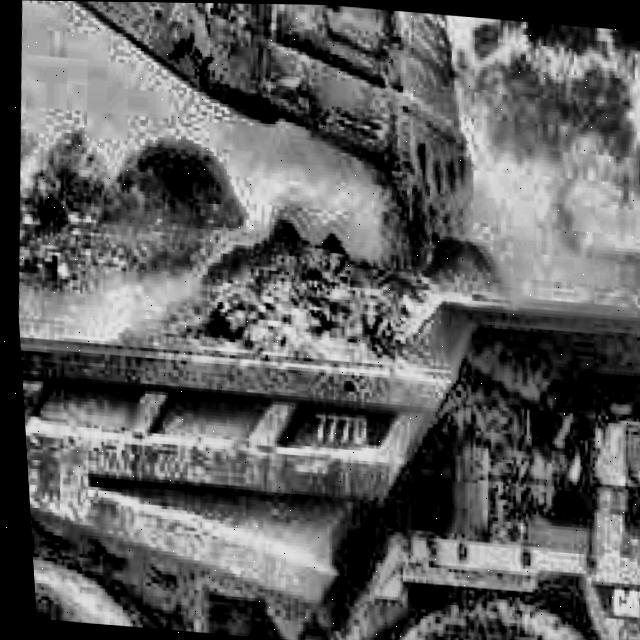dump_truck: (9, 203, 640, 640)
excavator: (7, 0, 495, 248)
